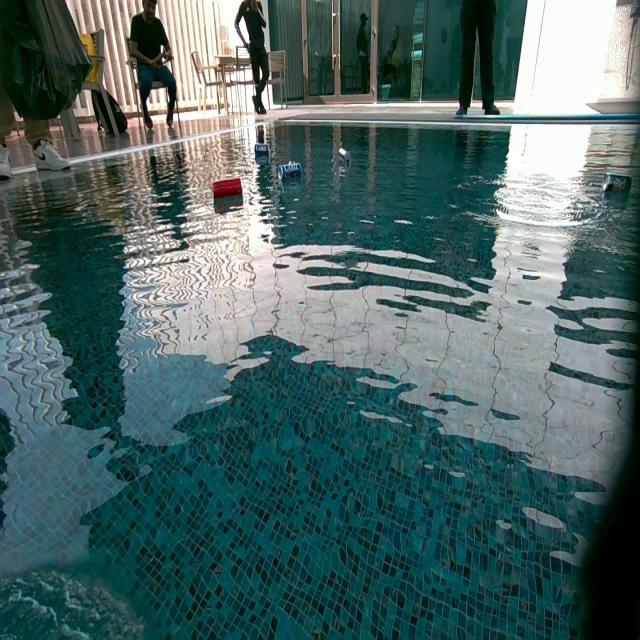Cans: (604, 173, 634, 196), (211, 179, 241, 198), (279, 163, 303, 182), (338, 147, 352, 169), (254, 143, 270, 157)
